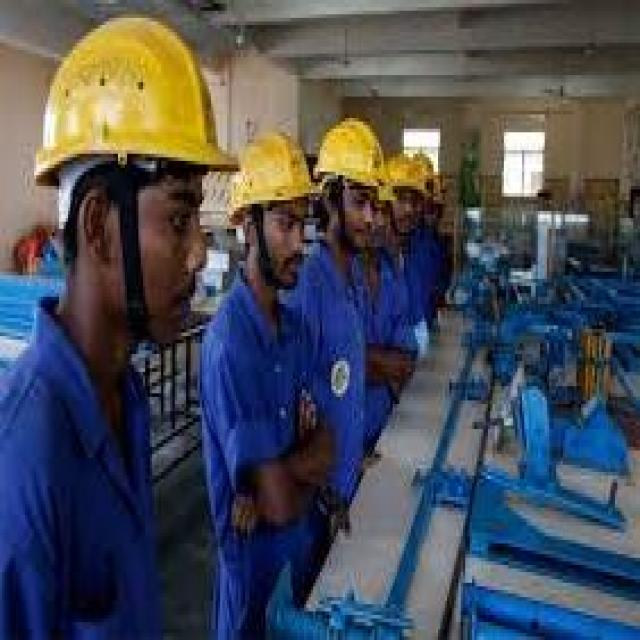Safety-Helmet: (29, 7, 234, 197), (222, 121, 322, 232), (314, 111, 391, 207)
